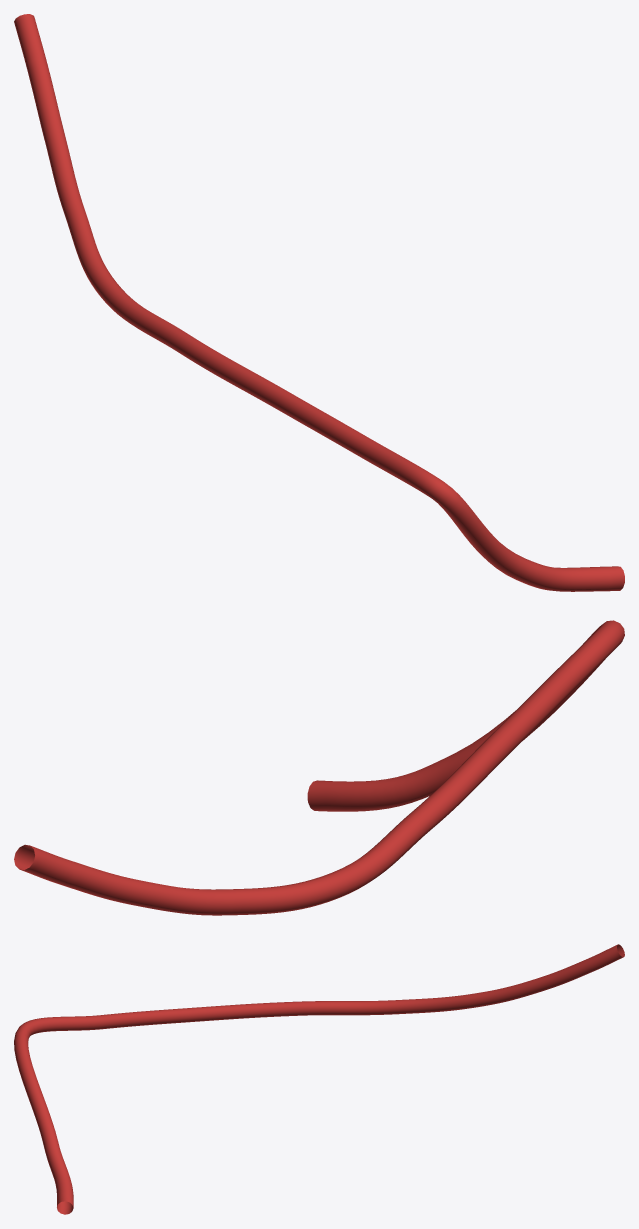
3 views of the same model, one above another, from view 1: azimuth 30°, elevation 25°; view 2: azimuth 150°, elevation 25°; view 3: azimuth 270°, elevation 25° (orthographic). The views are drawn at different scales.
Parts seen in each view (by area): view 1: 左侧筛后动脉鼻中隔支; view 2: 左侧筛后动脉鼻中隔支; view 3: 左侧筛后动脉鼻中隔支.
Part boxes in pixels (<box>): 左侧筛后动脉鼻中隔支: <box>14,14,624,591</box>; 左侧筛后动脉鼻中隔支: <box>14,620,624,915</box>; 左侧筛后动脉鼻中隔支: <box>14,944,624,1214</box>.
Bounding box in the file's own units: 0.0132 × 0.0144 × 0.0376.
